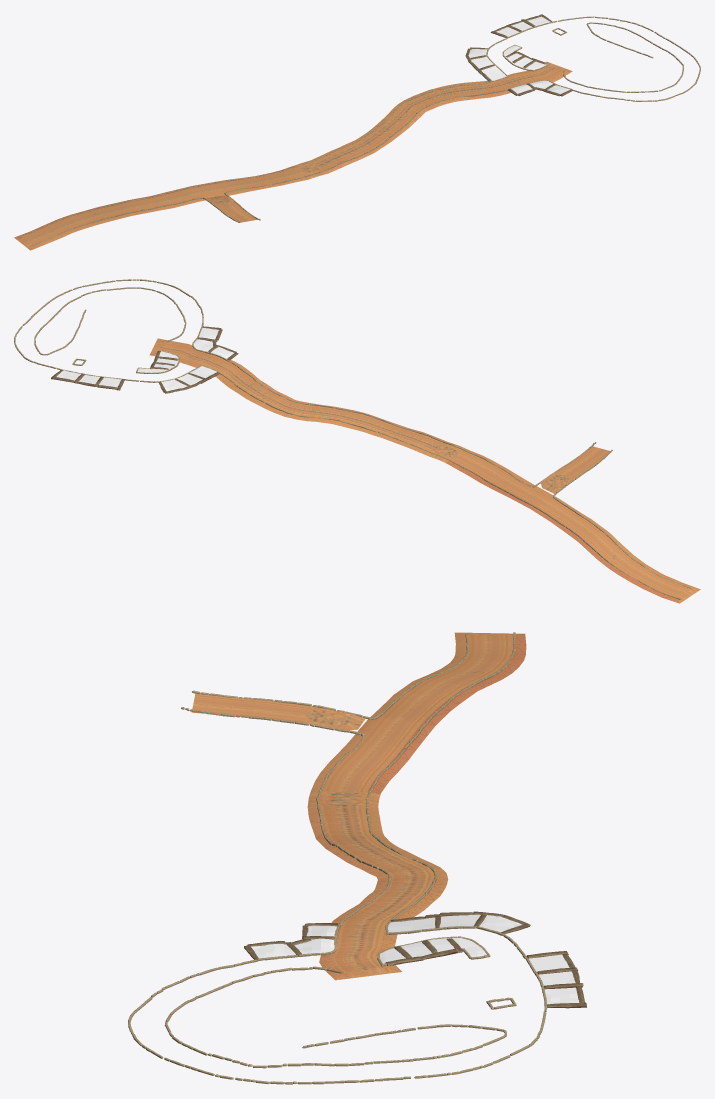
Rendered from objects_un_t01curb01.gltf.
3 views of the same model, one above another, from view 1: azimuth 30°, elevation 25°; view 2: azimuth 150°, elevation 25°; view 3: azimuth 270°, elevation 25° (orthographic). The views are drawn at different scales.
Visible parts, largest first — view 1: um_objects_un_t01curb01_model_0__2_shape:objects_un_t01curb0 (×3), um_objects_un_t01curb01_model__1__1_shape:objects_un_t01curb (×2), um_objects_un_t01curb01_model_0_1_shape:objects_un_t01curb01 (×2), um_objects_un_t01curb01_model_0__2_shape:objects_t01_soli01_, um_objects_un_t01curb01_model__1_0_shape:objects_un_t01curb0, um_objects_un_t01curb01_model_0_0_shape:objects_un_t01curb01, um_objects_un_t01curb01_model_0_1_shape:objects_t01_soli01_0; view 2: um_objects_un_t01curb01_model__1__1_shape:objects_un_t01curb (×2), um_objects_un_t01curb01_model_0__2_shape:objects_un_t01curb0 (×3), um_objects_un_t01curb01_model_0_1_shape:objects_un_t01curb01 (×2), um_objects_un_t01curb01_model__1_0_shape:objects_un_t01curb0, um_objects_un_t01curb01_model_0__2_shape:objects_t01_soli01_, um_objects_un_t01curb01_model_0_0_shape:objects_un_t01curb01, um_objects_un_t01curb01_model_0_1_shape:objects_t01_soli01_0; view 3: um_objects_un_t01curb01_model_0__2_shape:objects_un_t01curb0 (×3), um_objects_un_t01curb01_model__1__1_shape:objects_un_t01curb (×2), um_objects_un_t01curb01_model__1_0_shape:objects_un_t01curb0 (×2), um_objects_un_t01curb01_model_0_1_shape:objects_un_t01curb01 (×2), um_objects_un_t01curb01_model_0__2_shape:objects_t01_soli01_, um_objects_un_t01curb01_model_0_0_shape:objects_un_t01curb01, um_objects_un_t01curb01_model_0_1_shape:objects_t01_soli01_0.
Part boxes in pixels (x1=…): um_objects_un_t01curb01_model_0__2_shape:objects_un_t01curb0 (×3): x1=356, y1=14, x2=671, y2=141; um_objects_un_t01curb01_model__1__1_shape:objects_un_t01curb (×2): x1=14, y1=163, x2=302, y2=250; um_objects_un_t01curb01_model_0_1_shape:objects_un_t01curb01 (×2): x1=360, y1=41, x2=700, y2=152; um_objects_un_t01curb01_model_0__2_shape:objects_t01_soli01_: x1=468, y1=16, x2=550, y2=80; um_objects_un_t01curb01_model__1_0_shape:objects_un_t01curb0: x1=206, y1=168, x2=317, y2=222; um_objects_un_t01curb01_model_0_0_shape:objects_un_t01curb01: x1=295, y1=141, x2=374, y2=176; um_objects_un_t01curb01_model_0_1_shape:objects_t01_soli01_0: x1=511, y1=80, x2=570, y2=94; um_objects_un_t01curb01_model__1__1_shape:objects_un_t01curb (×2): x1=439, y1=456, x2=700, y2=603; um_objects_un_t01curb01_model_0__2_shape:objects_un_t01curb0 (×3): x1=14, y1=313, x2=376, y2=435; um_objects_un_t01curb01_model_0_1_shape:objects_un_t01curb01 (×2): x1=34, y1=279, x2=390, y2=431; um_objects_un_t01curb01_model__1_0_shape:objects_un_t01curb0: x1=452, y1=446, x2=609, y2=493; um_objects_un_t01curb01_model_0__2_shape:objects_t01_soli01_: x1=56, y1=351, x2=216, y2=391; um_objects_un_t01curb01_model_0_0_shape:objects_un_t01curb01: x1=377, y1=422, x2=464, y2=460; um_objects_un_t01curb01_model_0_1_shape:objects_t01_soli01_0: x1=193, y1=328, x2=234, y2=358; um_objects_un_t01curb01_model_0__2_shape:objects_un_t01curb0 (×3): x1=335, y1=834, x2=586, y2=1082; um_objects_un_t01curb01_model__1__1_shape:objects_un_t01curb (×2): x1=334, y1=632, x2=526, y2=798; um_objects_un_t01curb01_model__1_0_shape:objects_un_t01curb0 (×2): x1=191, y1=693, x2=377, y2=797; um_objects_un_t01curb01_model_0_1_shape:objects_un_t01curb01 (×2): x1=128, y1=834, x2=380, y2=1084; um_objects_un_t01curb01_model_0__2_shape:objects_t01_soli01_: x1=380, y1=914, x2=579, y2=1004; um_objects_un_t01curb01_model_0_0_shape:objects_un_t01curb01: x1=307, y1=790, x2=371, y2=839; um_objects_un_t01curb01_model_0_1_shape:objects_t01_soli01_0: x1=251, y1=925, x2=336, y2=958.
Size of what is drawn, in the model's own units: 152 by 18.76 by 48.76.
5 materials, 4 textured.
